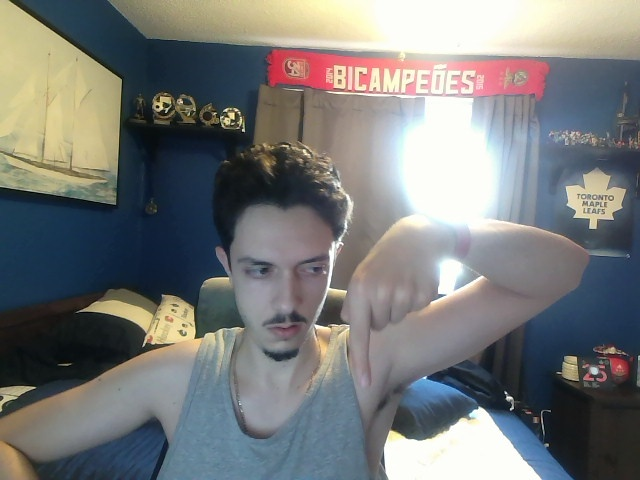Down: (341, 215, 443, 391)
